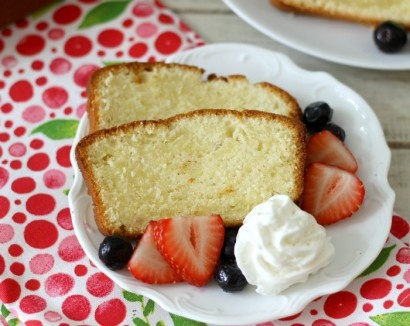background: (47, 30, 234, 151), (93, 0, 262, 28)
